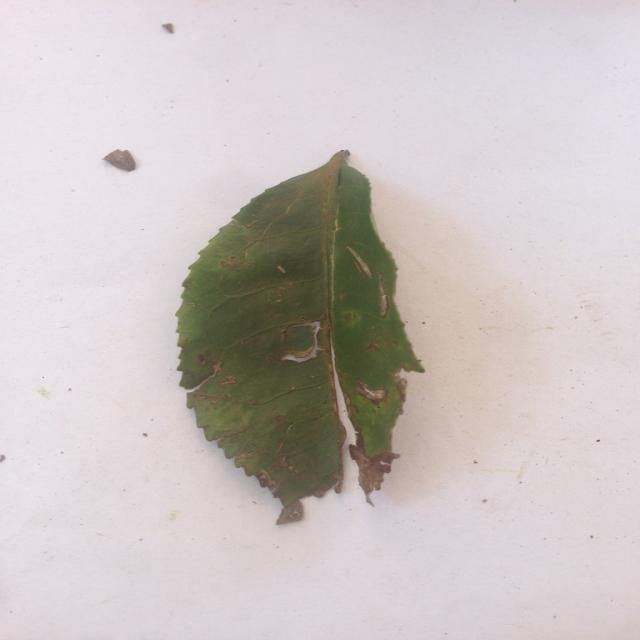Brown Blight: (168, 140, 438, 531)
